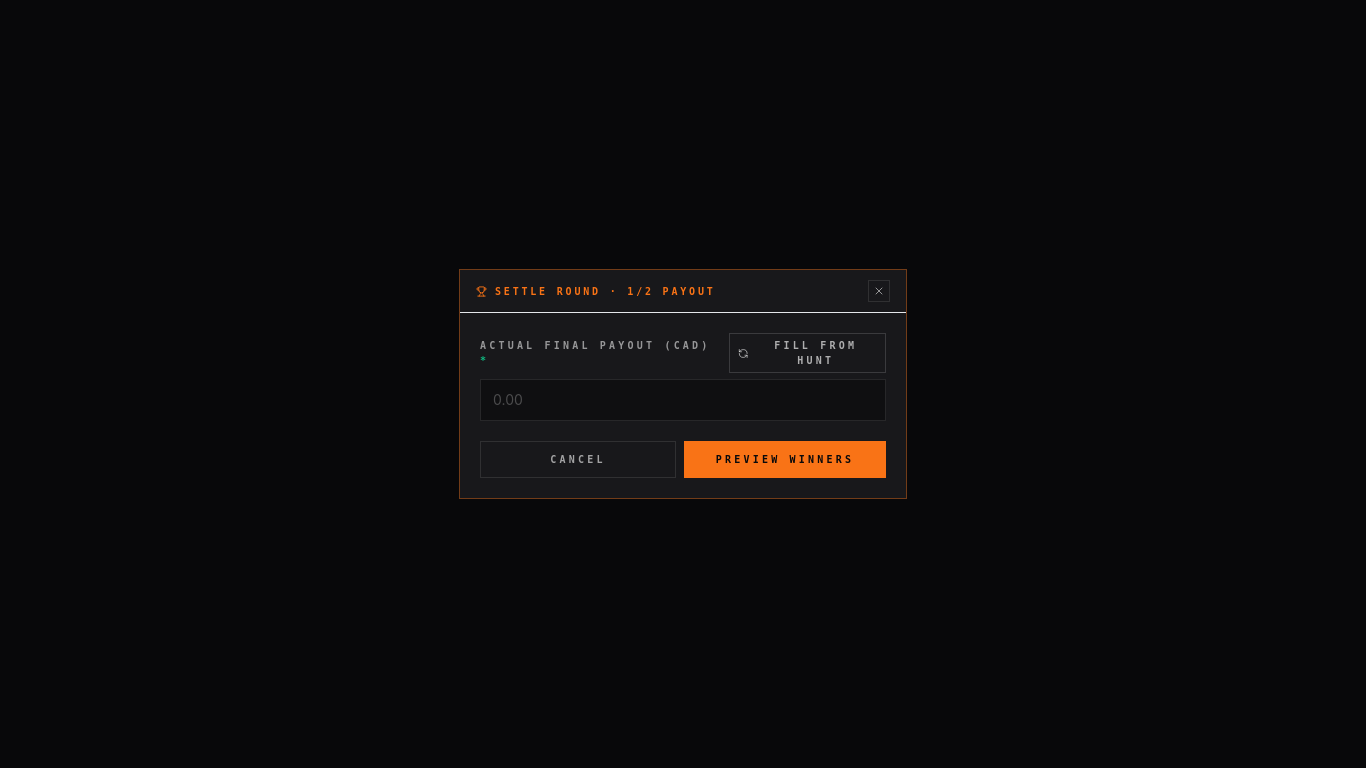
Scenario: Fill from hunt warns when the hunt is still live
Click the button "Fill from hunt".
click(808, 353)  # box [729,333,886,373]
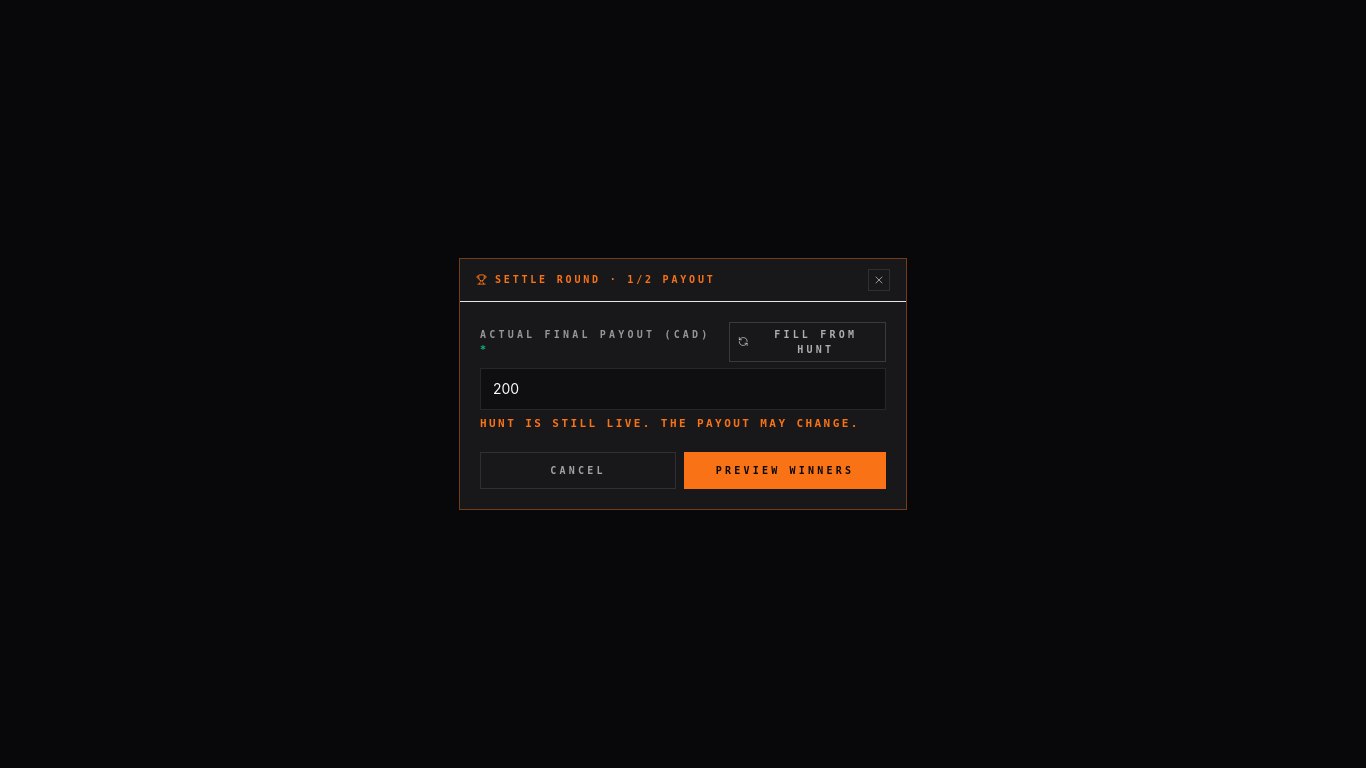
expect the text "Hunt is still live. The payout may change." is shown: met, box [480,416,886,432]
